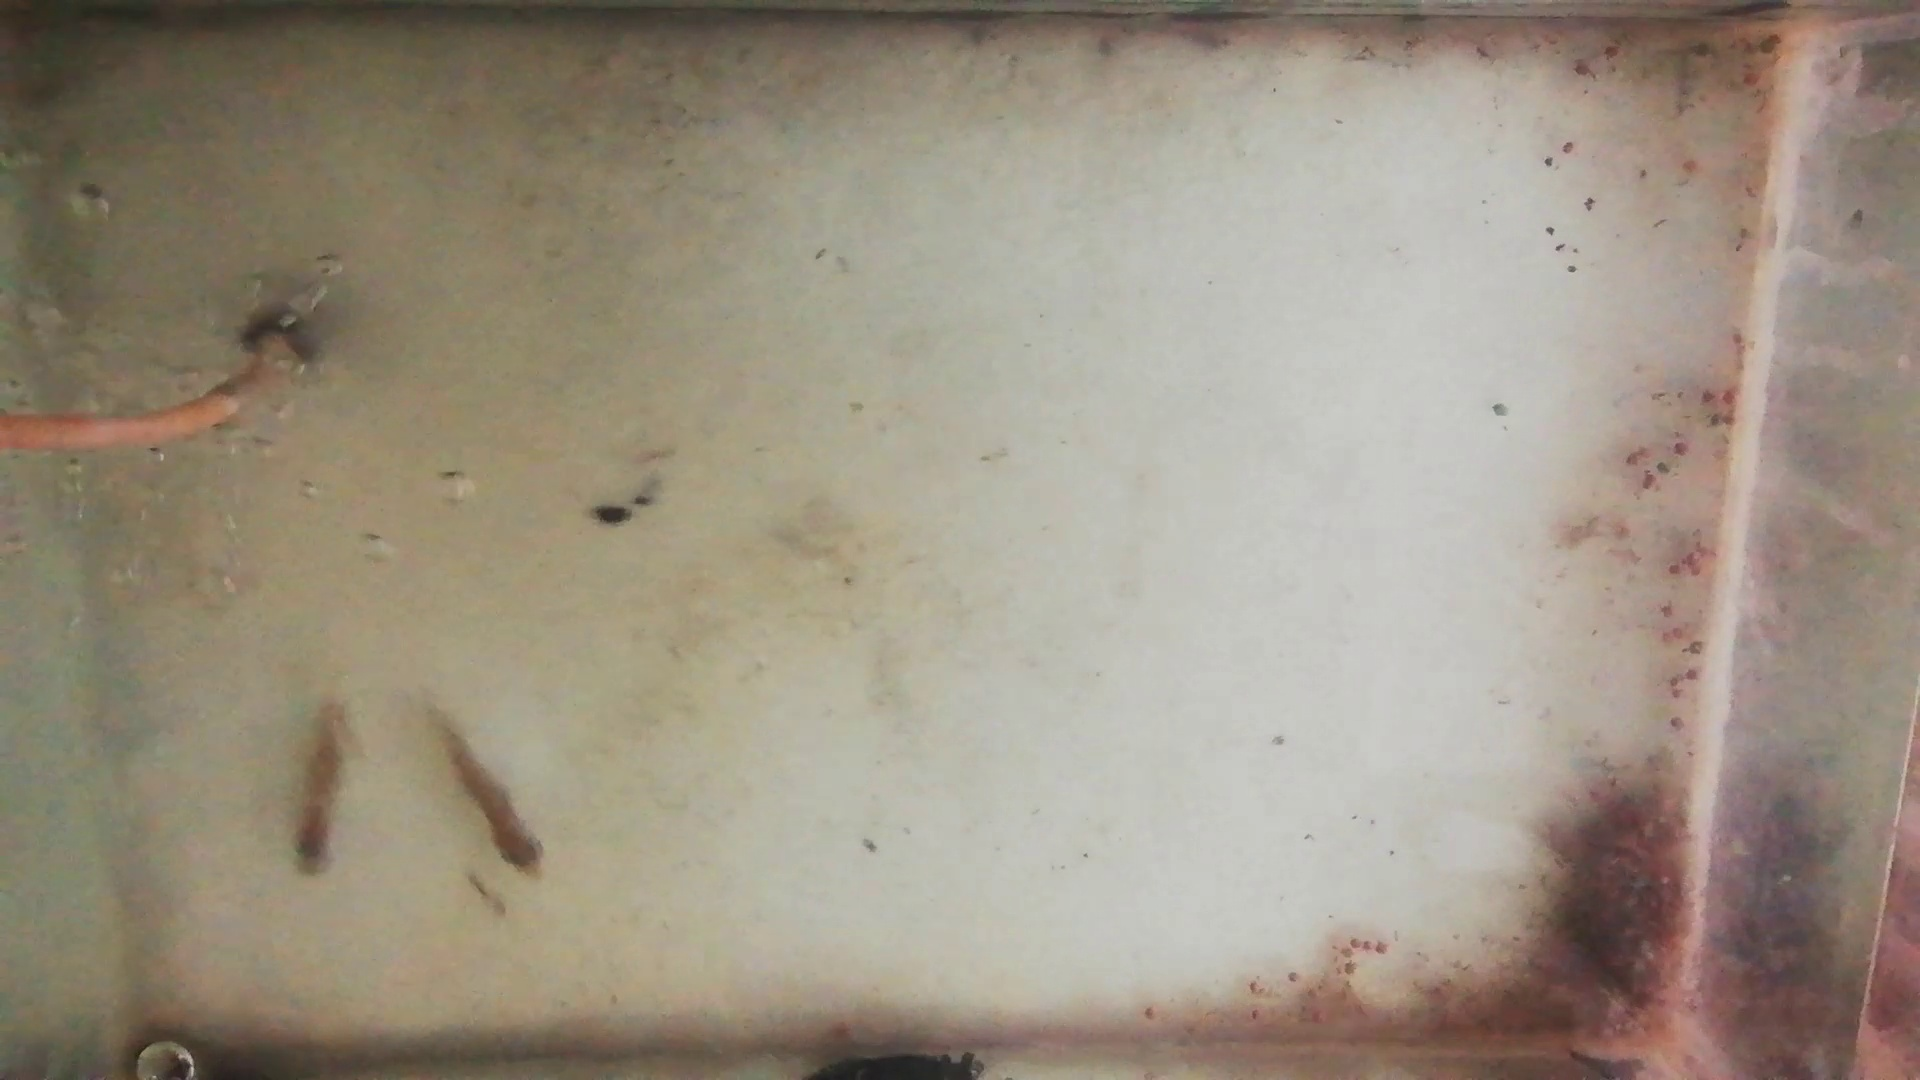fish: (425, 709, 551, 882), (287, 694, 353, 885)
